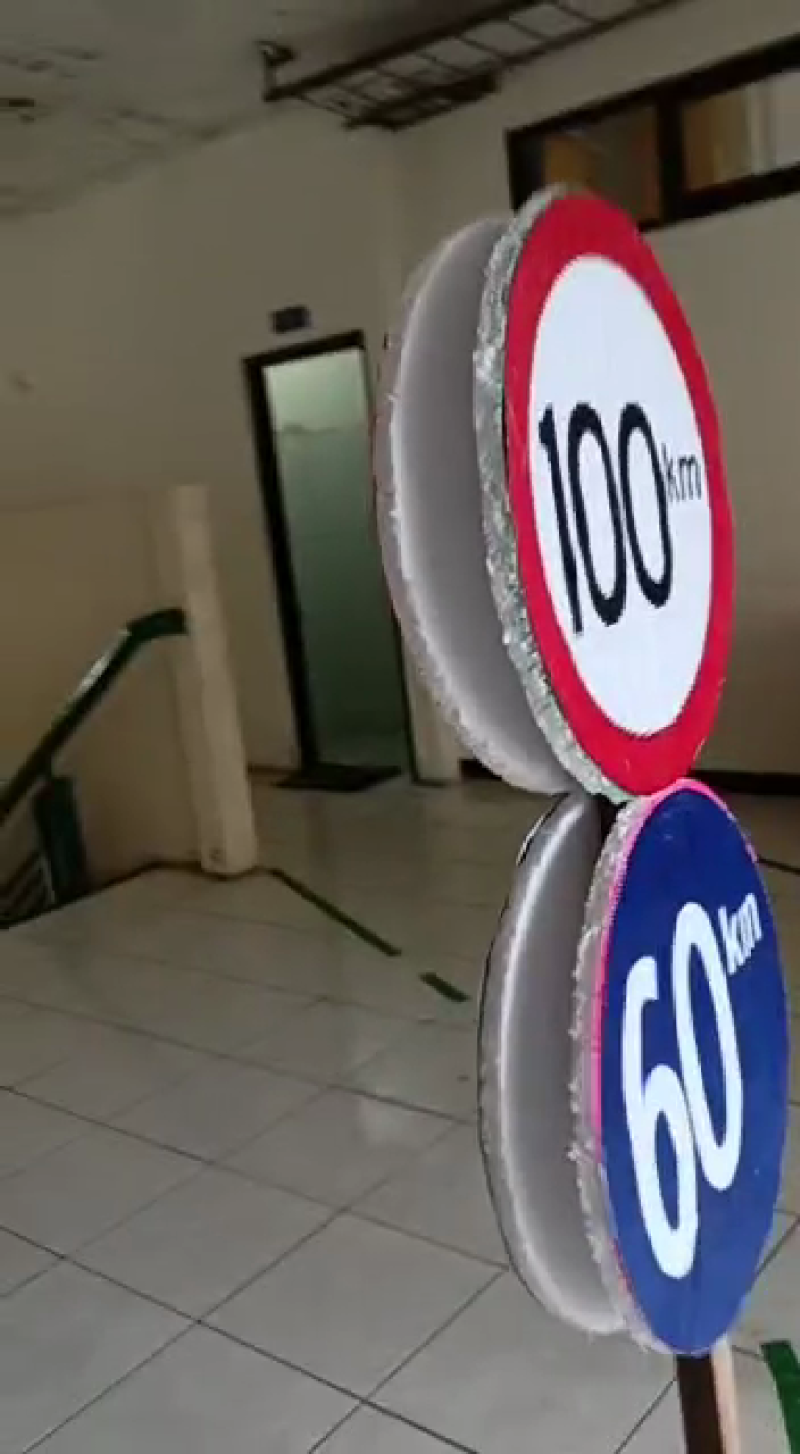batas maksimal 80kmperjam minimal 60kmperjam: (472, 170, 800, 1377)
